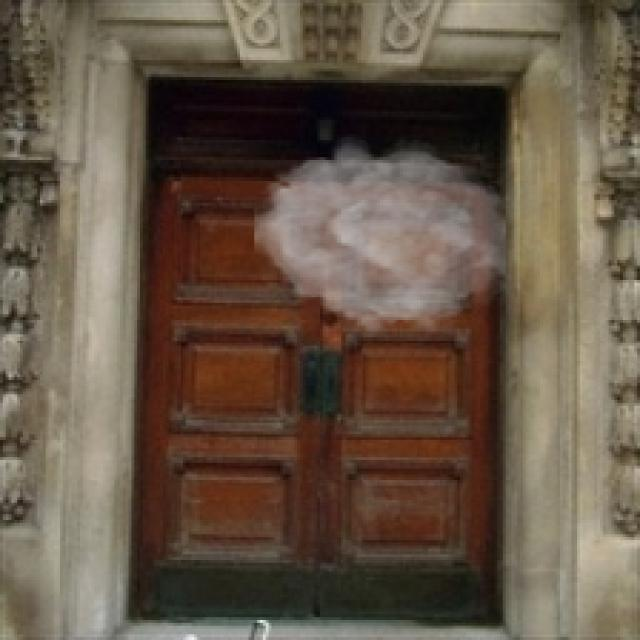Smoke: (254, 134, 506, 340)
